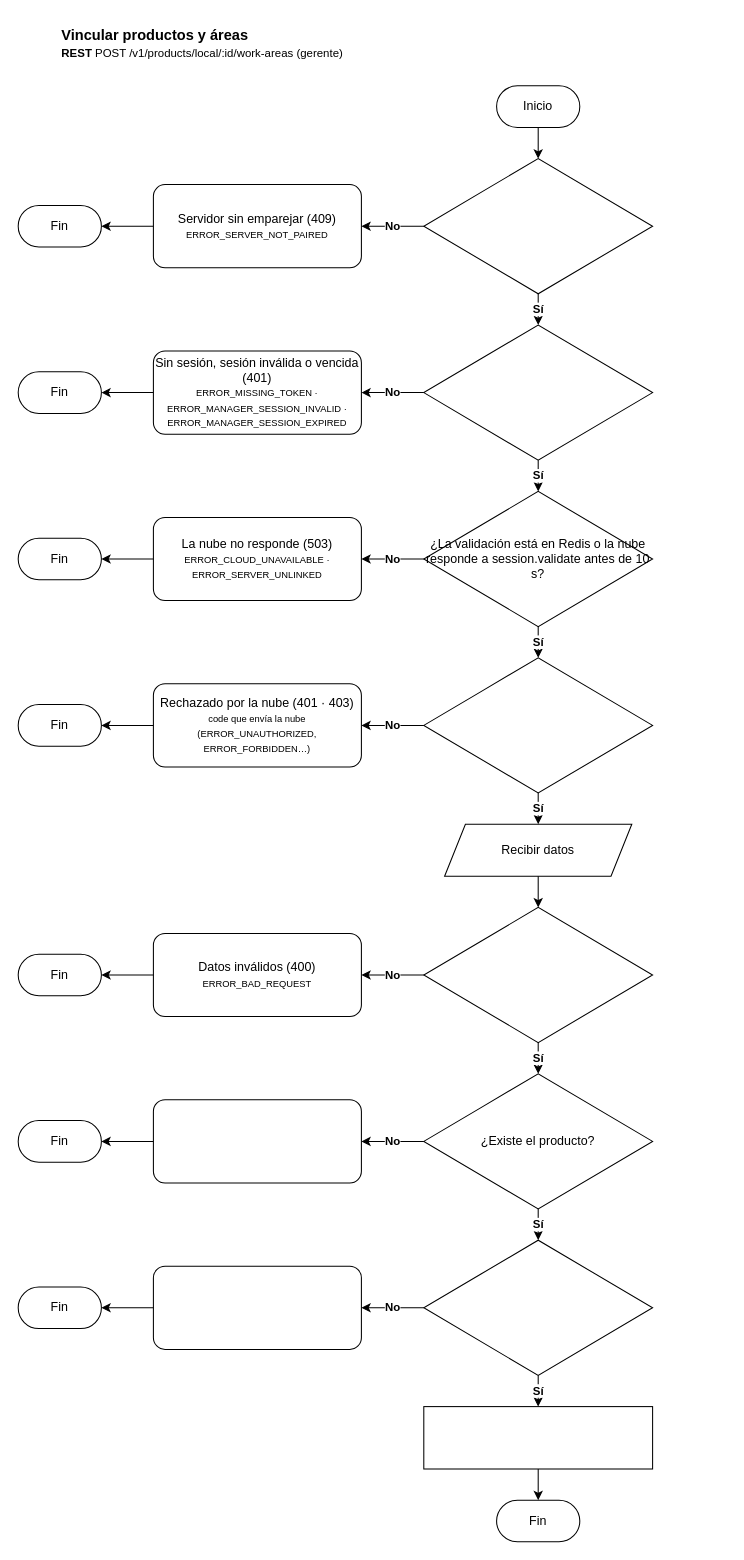
Image size: 744x1560. Some labels were removed from this diagram. The box of each missing label's shape, as (x1, y1, x2, y2) in pixels:
No se encontró el producto (404) ERROR_AREA_PRODUCT_PRODUCT_NOT_FOUND: (152, 1099, 361, 1183)
No se encontró el área de trabajo (404) ERROR_AREA_PRODUCT_WORK_AREA_NOT_FOUND: (152, 1265, 361, 1349)
Responder 200 con el mensaje LINKED: (423, 1406, 653, 1469)
¿El servidor ya se emparejó alguna vez (pairing_status distinto de unpaired)?: (423, 158, 653, 294)
¿Existe el área de trabajo?: (423, 1239, 653, 1375)
¿La nube acepta la sesión del gerente con este servidor?: (423, 657, 653, 793)
¿Los datos son válidos?: (423, 906, 653, 1043)
¿Trae una sesión de gerente válida (Bearer mss_..., sin 30 min de inactividad)?: (423, 324, 653, 460)
